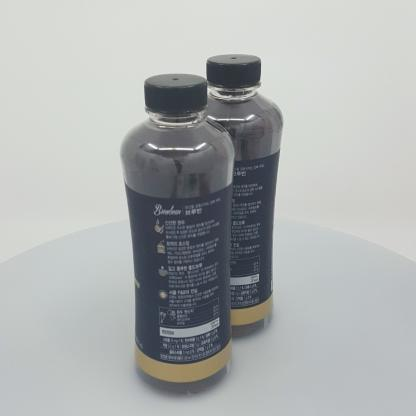-------------: (119, 74, 236, 395)
